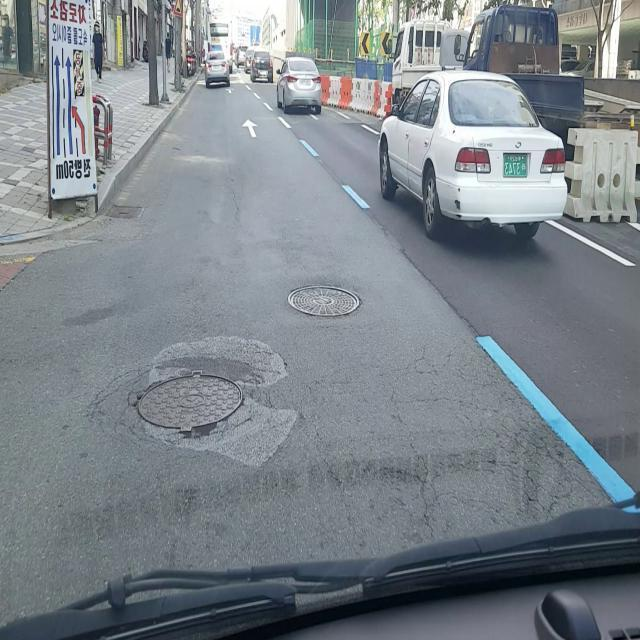pothole: (129, 364, 248, 444)
